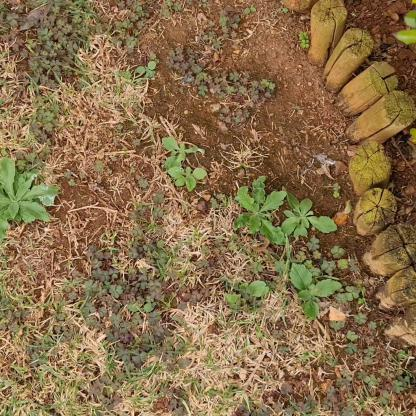Weeds: (0, 156, 61, 240), (231, 175, 288, 249), (289, 262, 341, 317), (283, 193, 338, 242), (160, 136, 203, 170), (223, 280, 269, 304), (168, 165, 207, 193), (139, 60, 158, 81)
